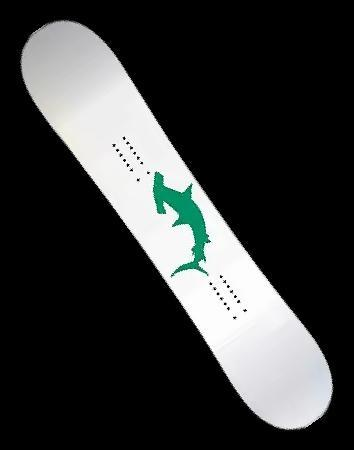Snowboard: (19, 18, 333, 431)
